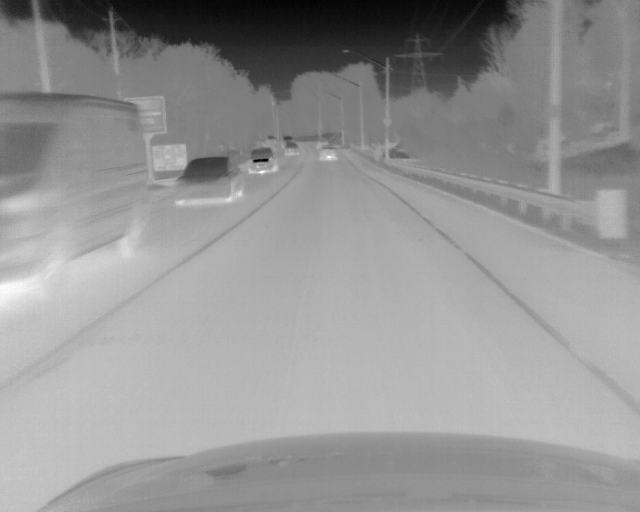car: (1, 90, 152, 290), (171, 157, 243, 205), (248, 145, 277, 175), (319, 144, 336, 161), (284, 142, 298, 157), (316, 139, 328, 150), (266, 135, 276, 145), (282, 135, 292, 143)
